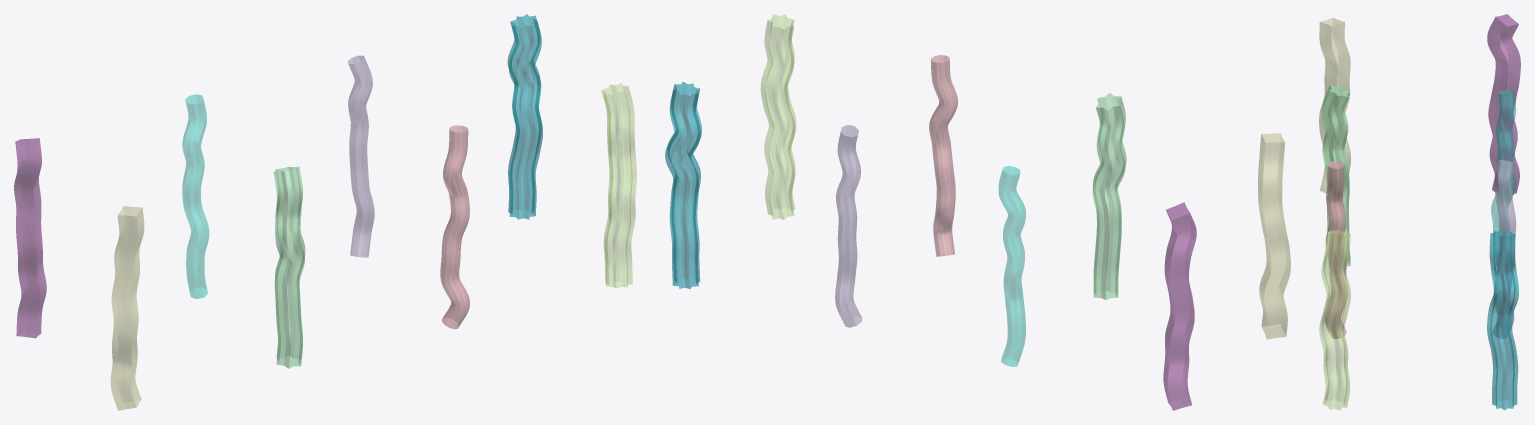
Rendered from phong_transp_mats_1_OpenedSplineTest_2023-06-04-21-23-01.gltf.
3 renders of one model, left to right at view 1: azimuth 30°, elevation 25°; view 2: azimuth 150°, elevation 25°; view 3: azimuth 270°, elevation 25°, orthographic. The views are drawn at different scales.
Size of the model in its own units: 639 by 234 by 240.
